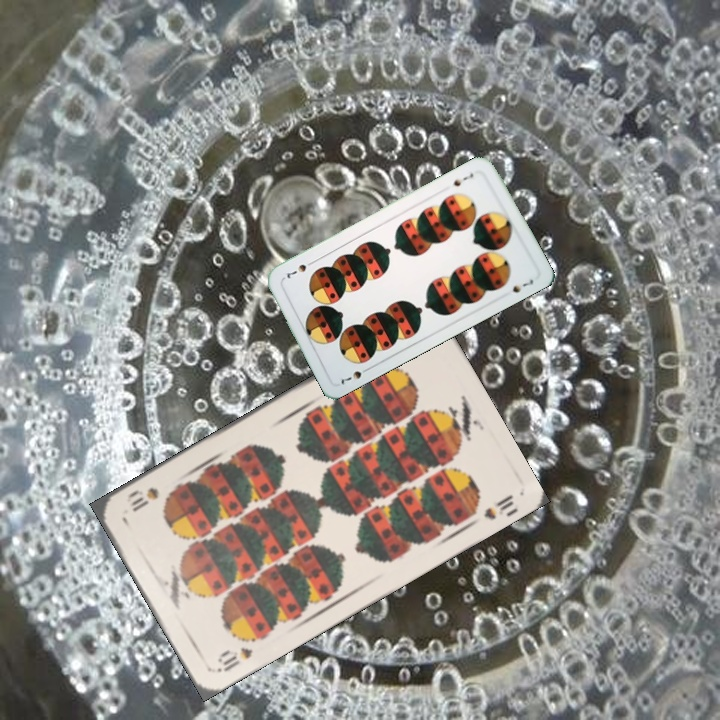S10: (213, 643, 255, 675)
S7: (335, 363, 373, 387), (447, 169, 476, 189)
